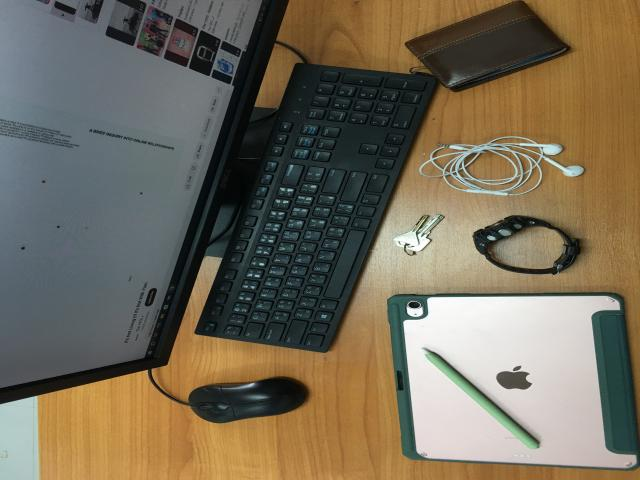Keys: (389, 213, 451, 261)
Mouse: (186, 377, 312, 425)
Wallet: (406, 2, 572, 93)
Watch: (473, 216, 582, 275)
wire: (434, 135, 583, 196)
